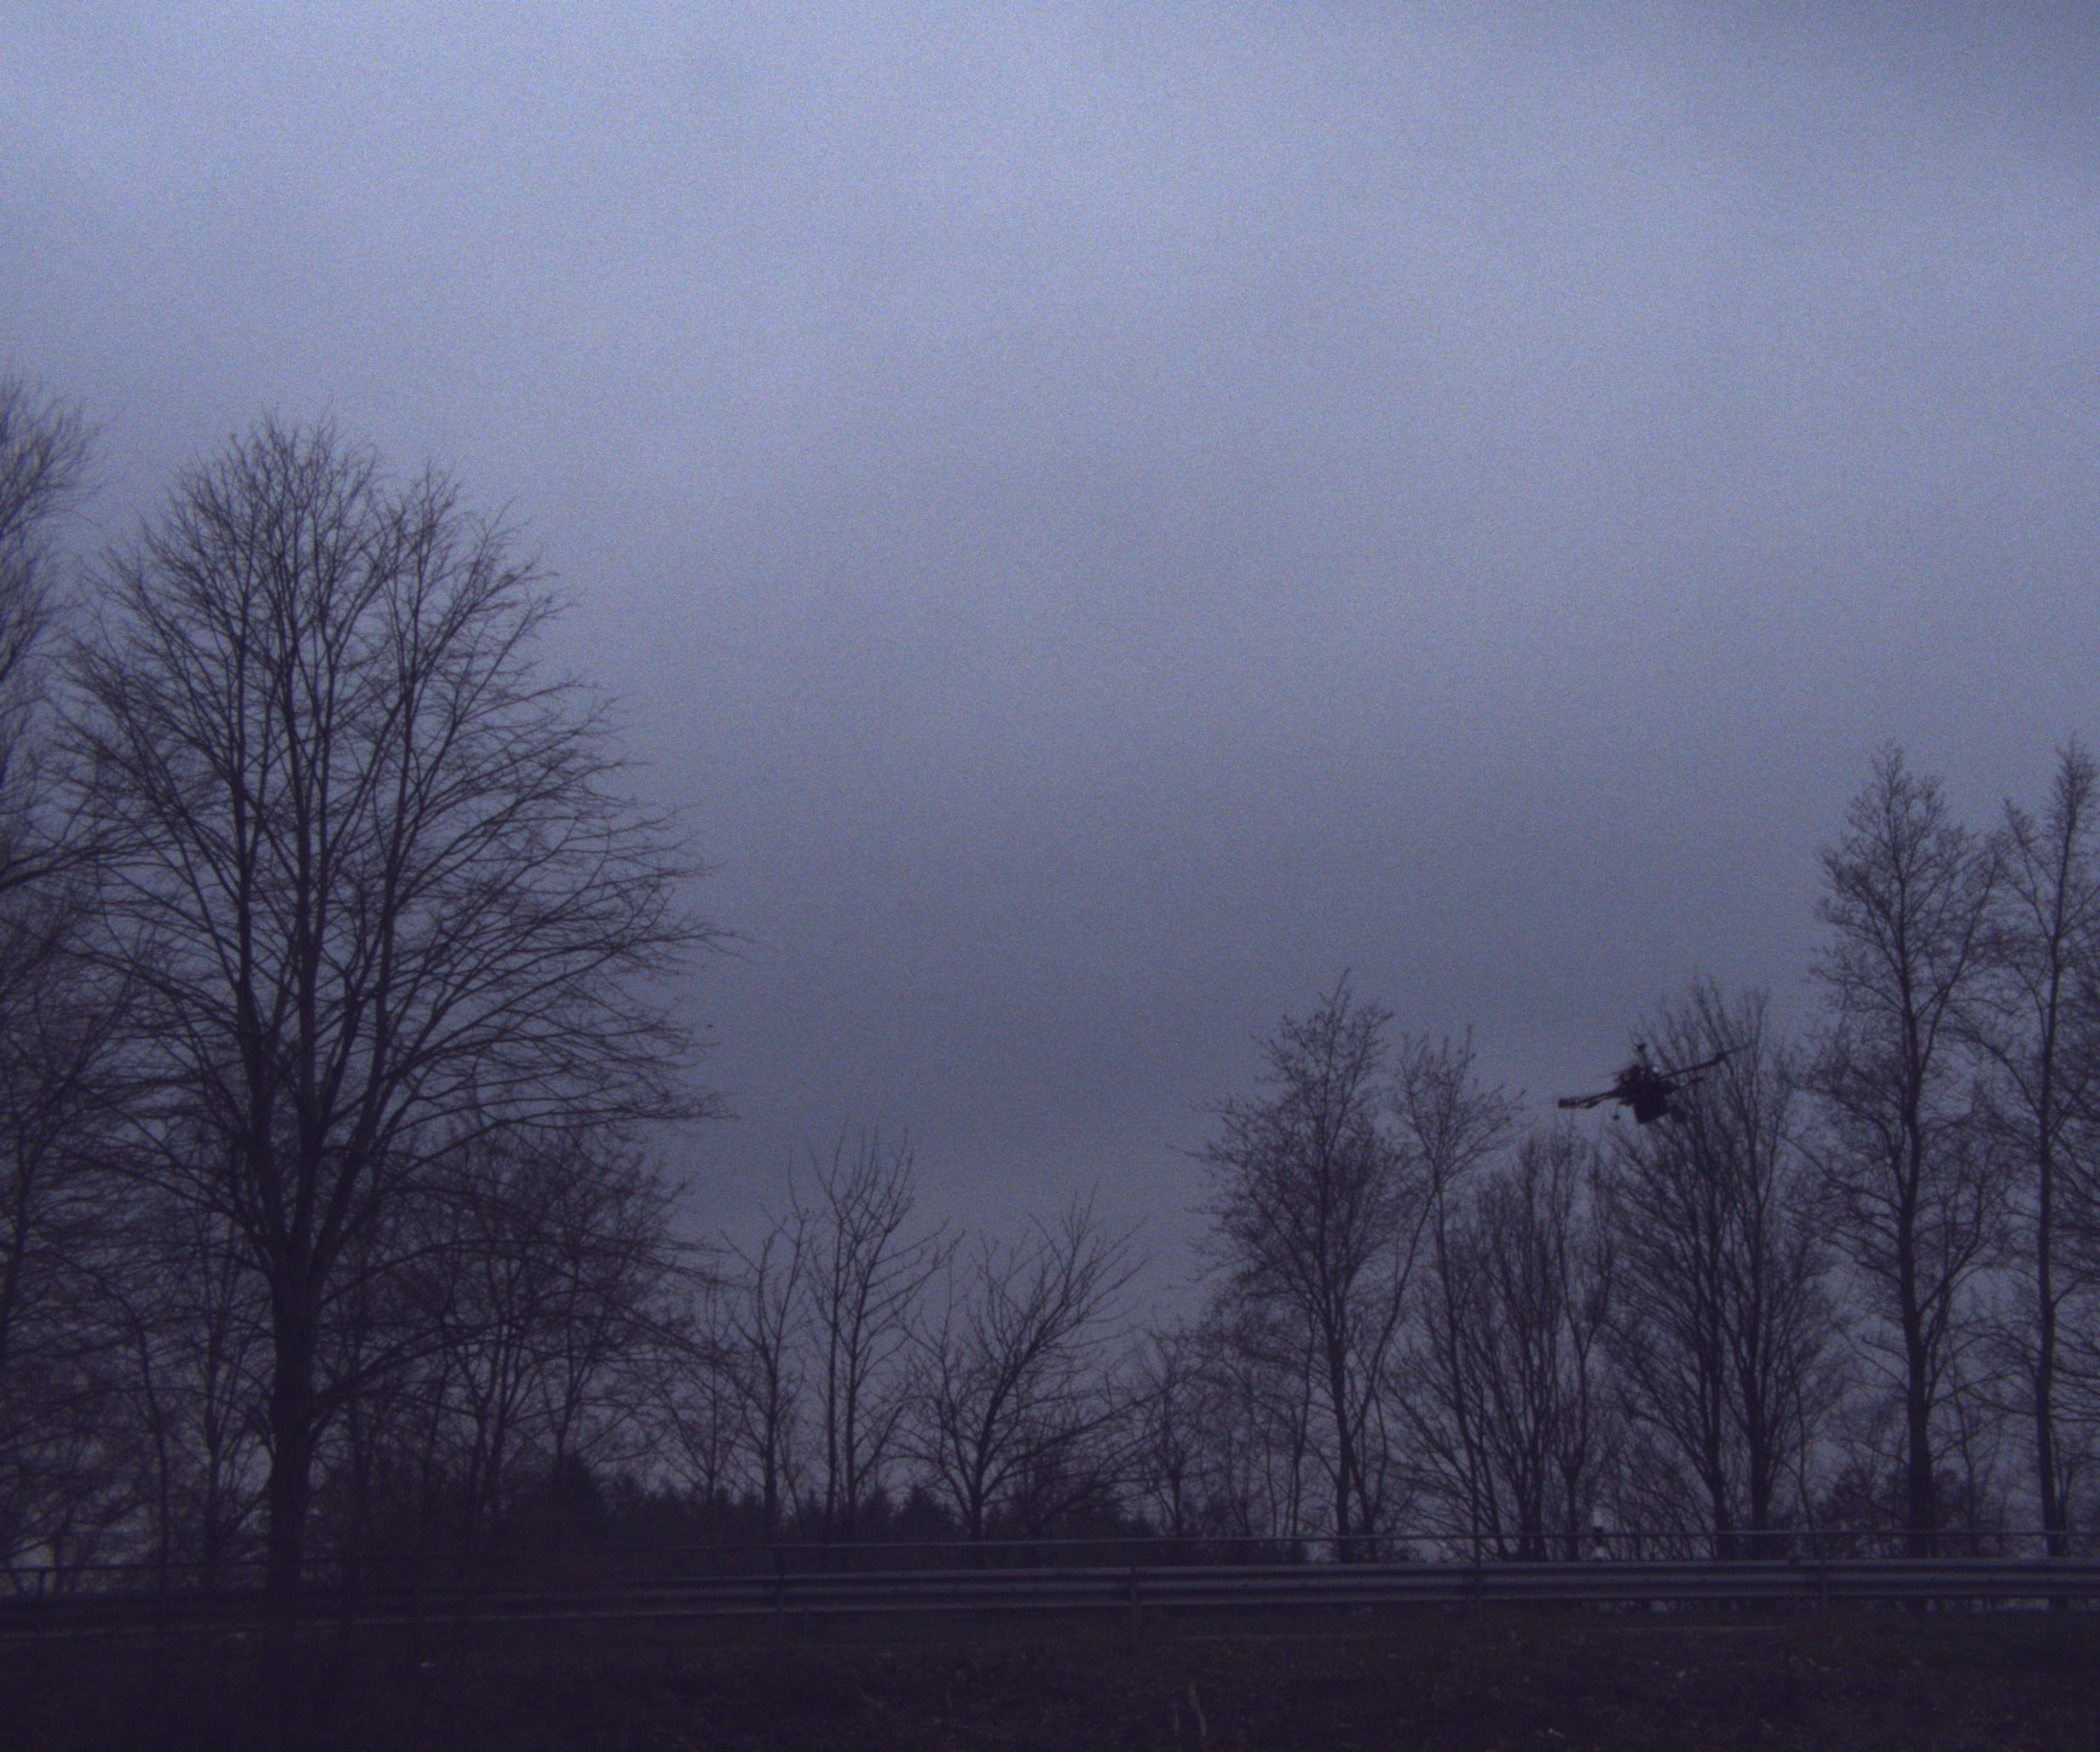Drohne: (1558, 1009, 1791, 1165)
